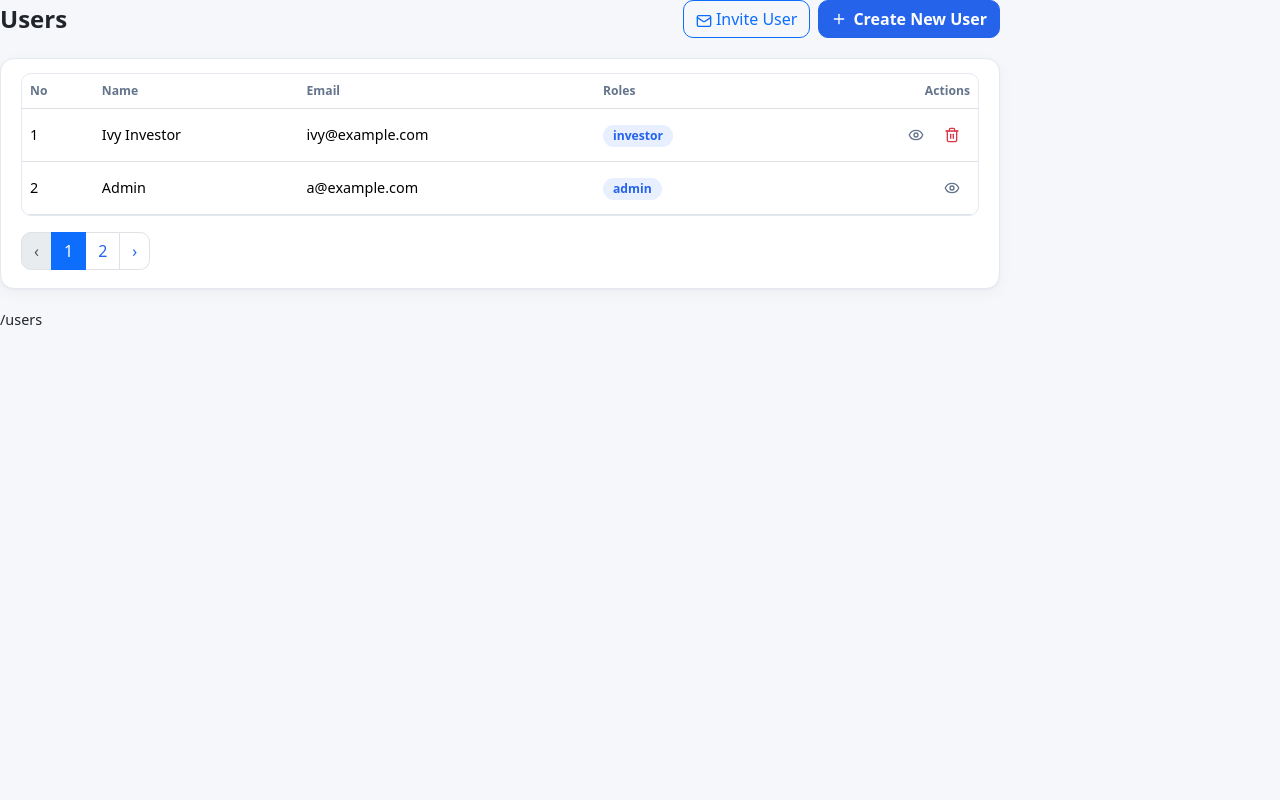
Users › deletes after confirmation and pages through users
Step 1. Click the button named "Delete Ivy Investor" → x=952, y=135, box x1=934 y1=117 x2=970 y2=153
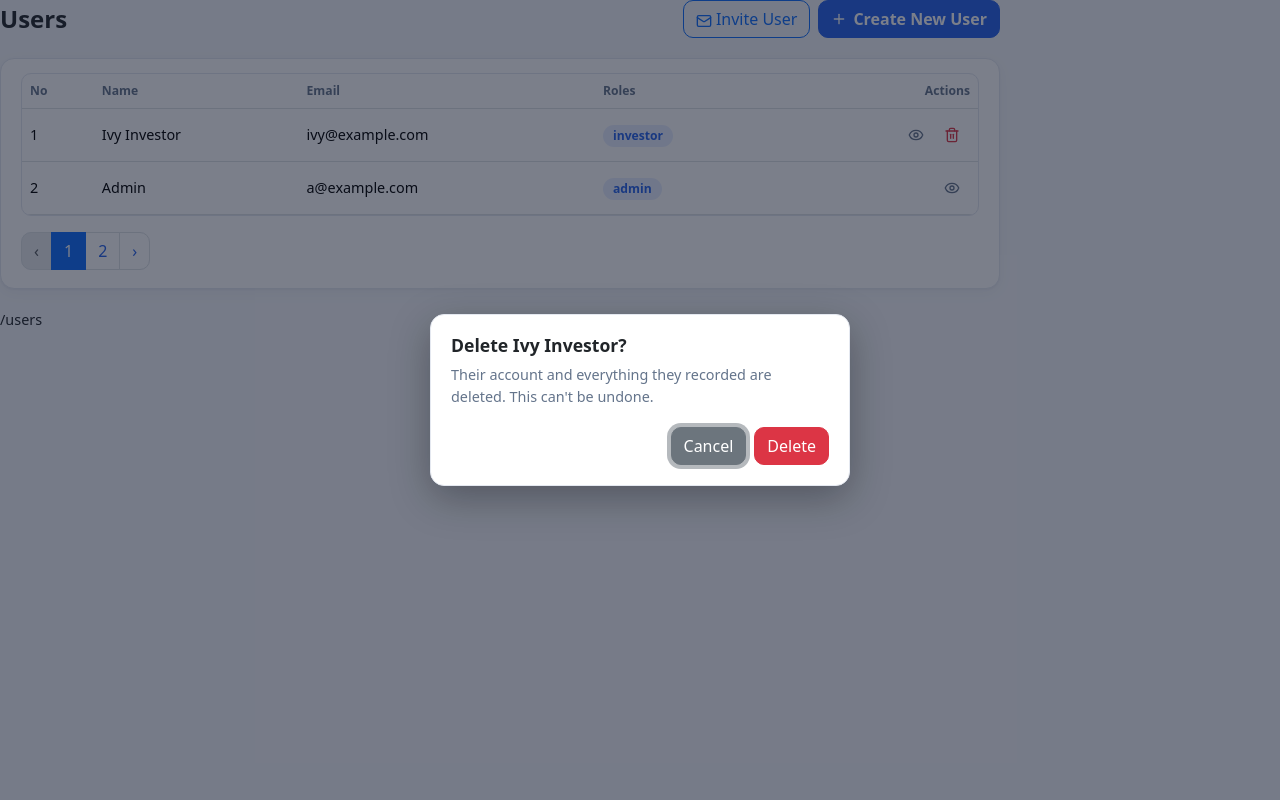
Step 2. Click the button "Cancel" → x=708, y=446, box x1=670 y1=427 x2=746 y2=465
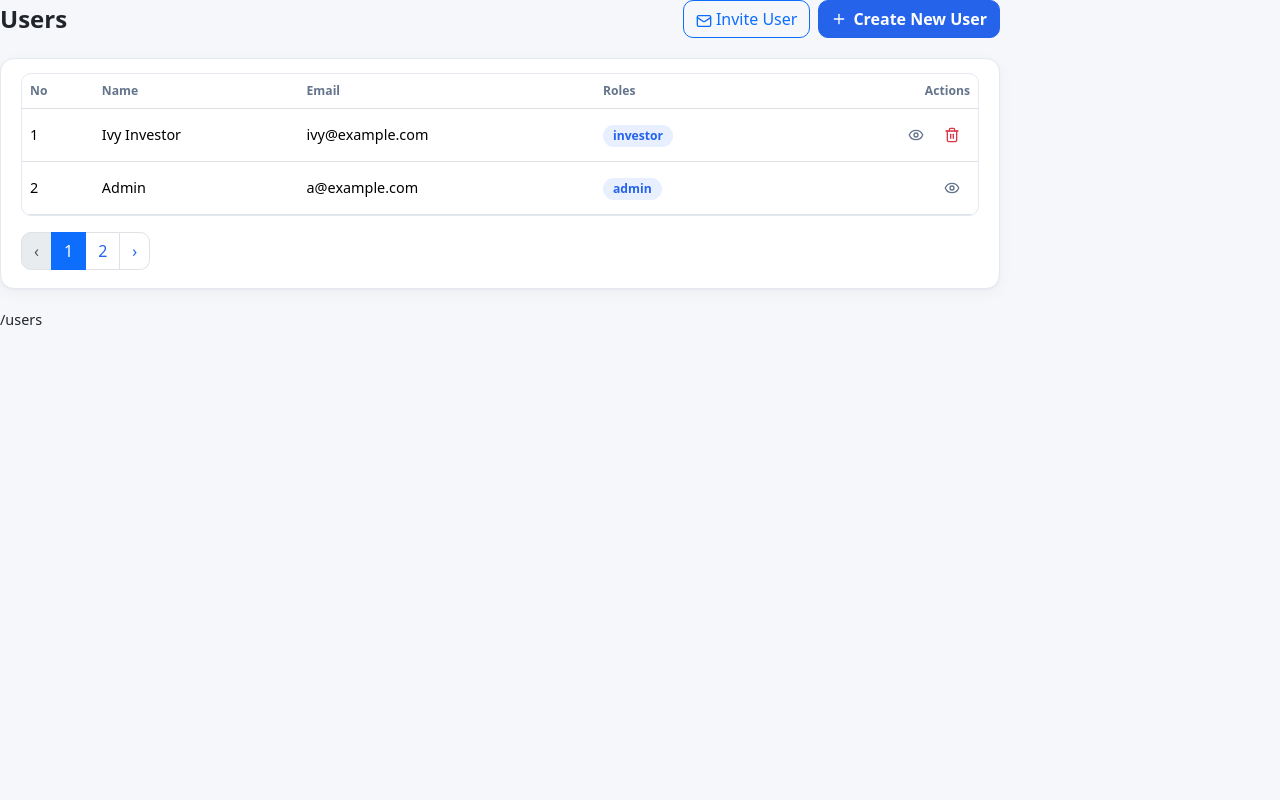
Now the dialog is gone
Step 3. Click the button named "Delete Ivy Investor" → x=952, y=135, box x1=934 y1=117 x2=970 y2=153
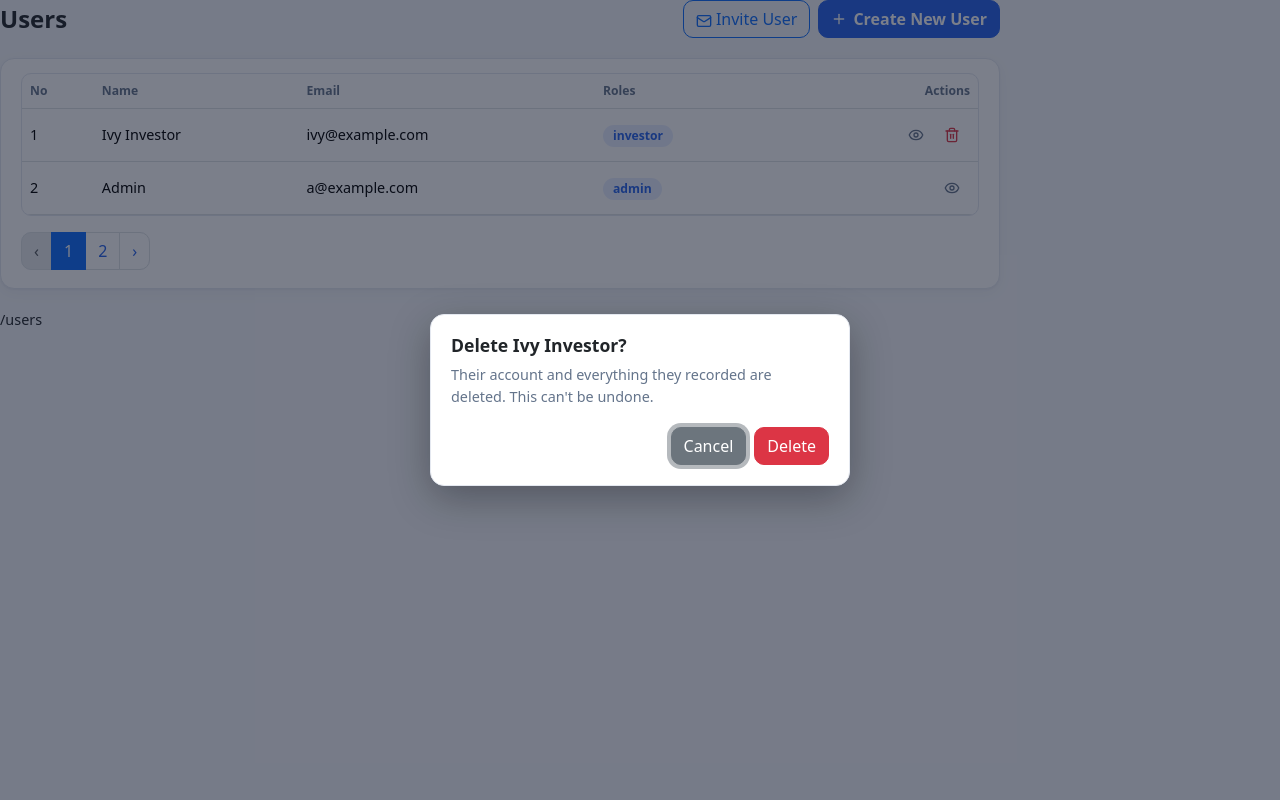
Step 4. Click the button "Delete" → x=792, y=446, box x1=754 y1=427 x2=829 y2=465
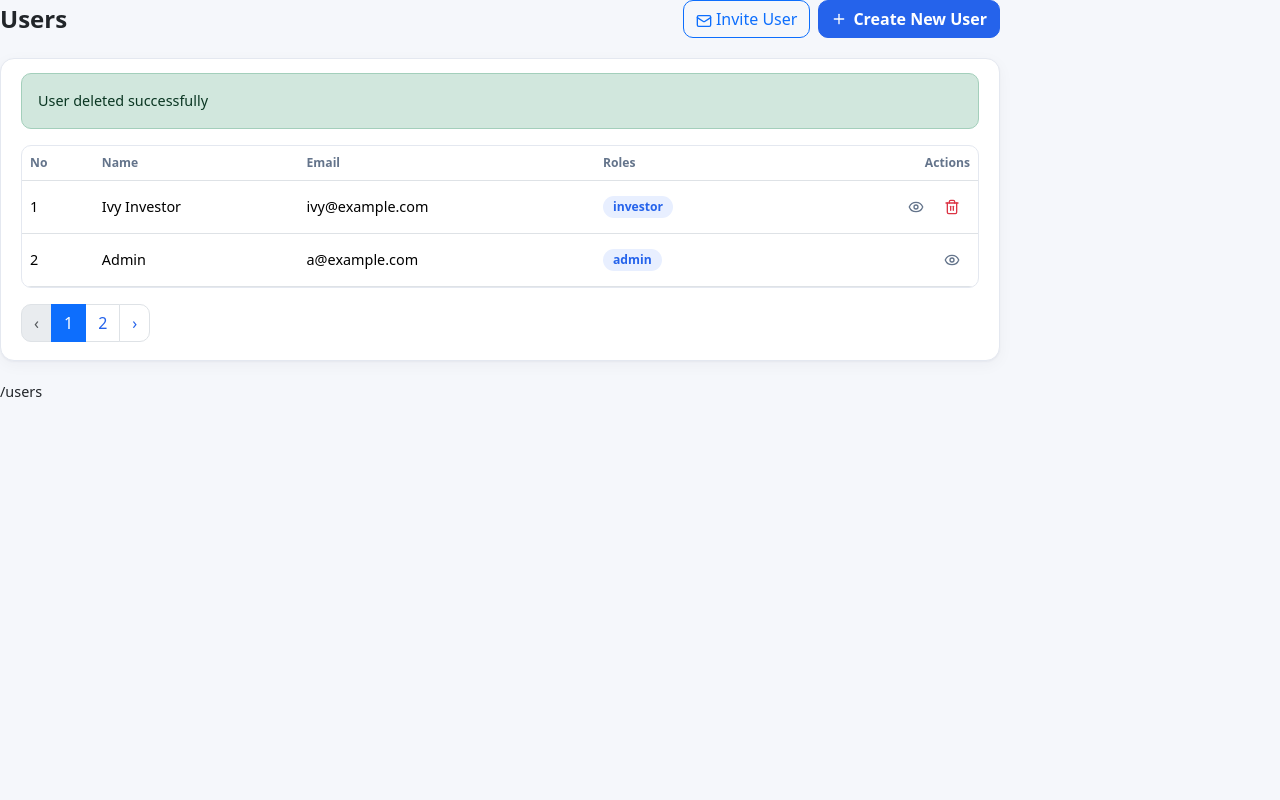
Now the text "User deleted successfully" is shown, box x1=21 y1=73 x2=979 y2=129
Step 5. Click the button "2" → x=103, y=323, box x1=85 y1=304 x2=120 y2=342
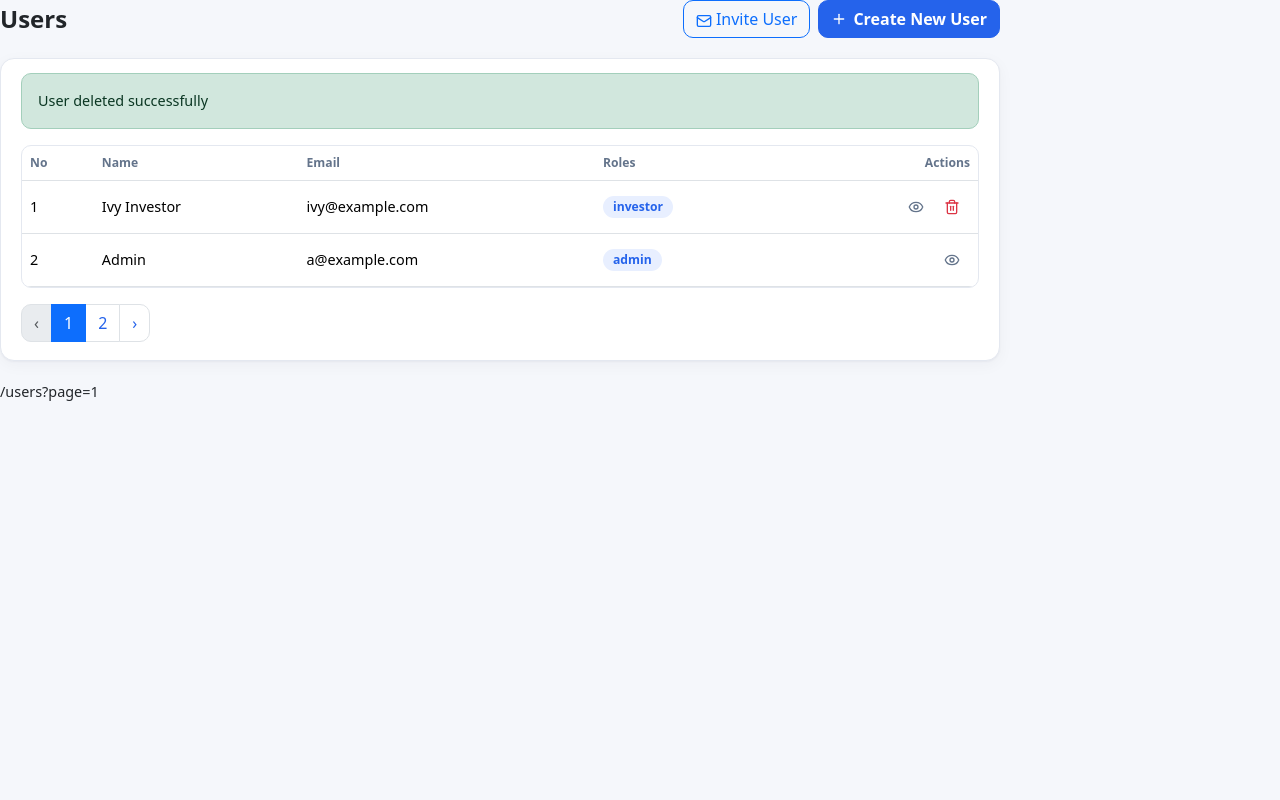
Now the text with test id "location" reads "/users?page=1", box x1=0 y1=382 x2=99 y2=401
